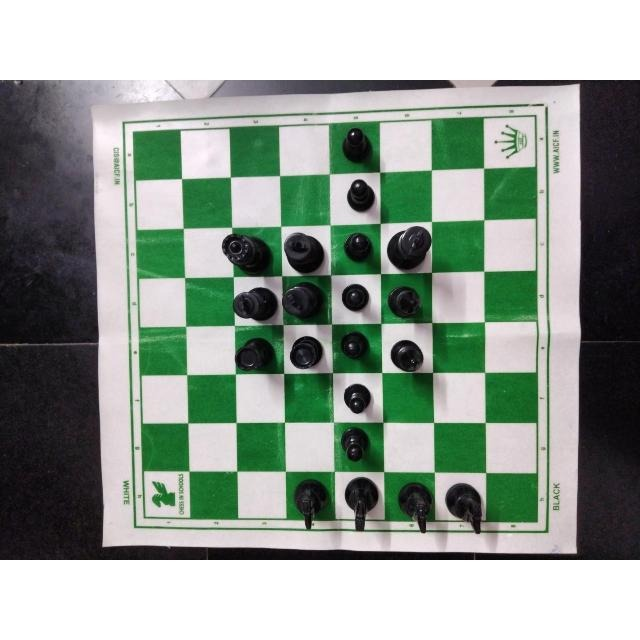black-bishop: (383, 277, 424, 318), (387, 332, 427, 374)
black-king: (280, 226, 328, 276), (387, 219, 432, 271), (231, 280, 280, 324), (281, 279, 331, 322)
black-knight: (393, 476, 437, 536), (287, 475, 333, 532), (443, 477, 487, 535), (339, 475, 381, 535)
black-pawn: (335, 422, 374, 468), (336, 123, 375, 167), (337, 228, 376, 265), (339, 377, 375, 417), (341, 175, 379, 212), (338, 280, 374, 316), (338, 329, 374, 365)
black-queen: (219, 228, 279, 276)
black-rook: (284, 333, 328, 377), (231, 334, 280, 373)
